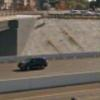cars: (18, 57, 48, 71)
